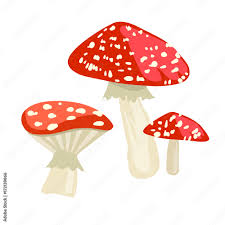Amanita muscaria: (66, 15, 200, 184), (18, 94, 113, 200), (139, 104, 211, 182)
